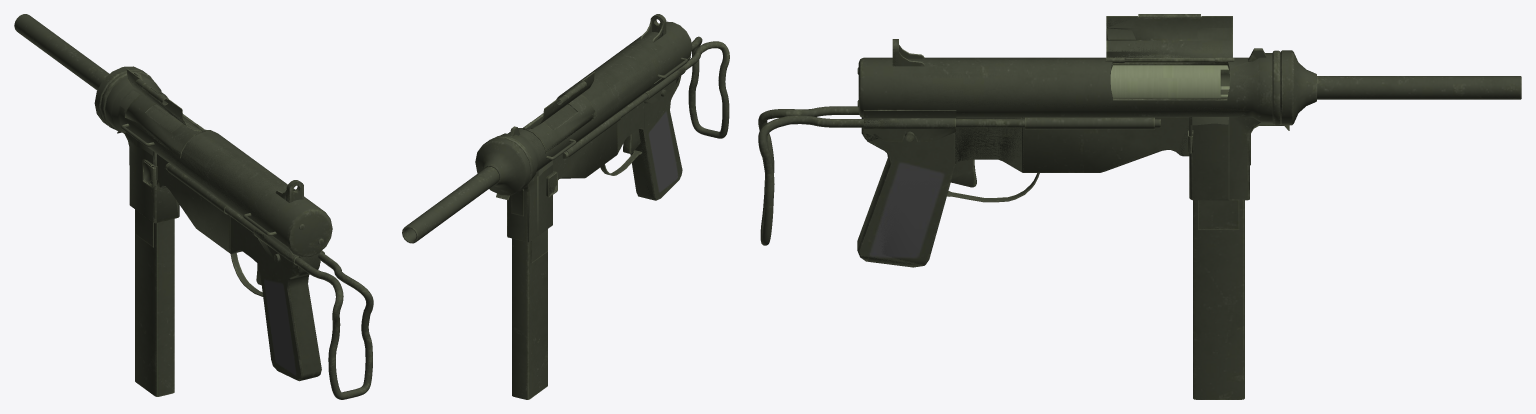
Rendered from smg_v45.gltf.
The picture shows the model from 3 angles, left to right: view 1: azimuth 30°, elevation 25°; view 2: azimuth 150°, elevation 25°; view 3: azimuth 270°, elevation 25°; orthographic projection. The views are drawn at different scales.
Parts seen in each view (by area): view 1: LOD, Body, Magazine, Bolt; view 2: Body, LOD, Magazine, Bolt; view 3: LOD, Body, Magazine, Bolt.
Part boxes in pixels (box(x1,y1,x2,y2)): LOD: box(15, 14, 373, 399); Body: box(14, 14, 373, 399); Magazine: box(135, 209, 174, 396); Bolt: box(127, 69, 205, 132); Body: box(402, 14, 729, 243); LOD: box(402, 14, 729, 399); Magazine: box(512, 229, 547, 399); Bolt: box(522, 72, 594, 129); LOD: box(758, 14, 1521, 399); Body: box(758, 39, 1521, 267); Magazine: box(1193, 89, 1244, 399); Bolt: box(1105, 14, 1234, 62).
Bounding box in the file's own units: 0.0635 × 0.3341 × 0.6271.
1 material, 1 textured.
